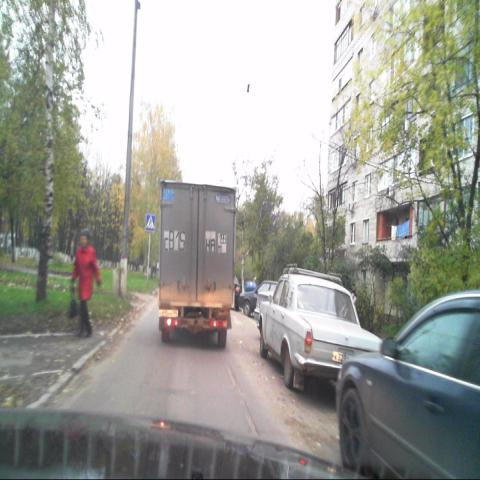5_19_1: (146, 214, 156, 231)
